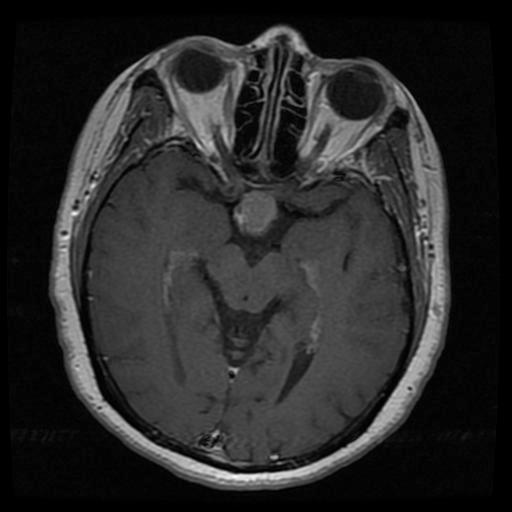Tumour-Pituitary: (231, 192, 278, 243)
